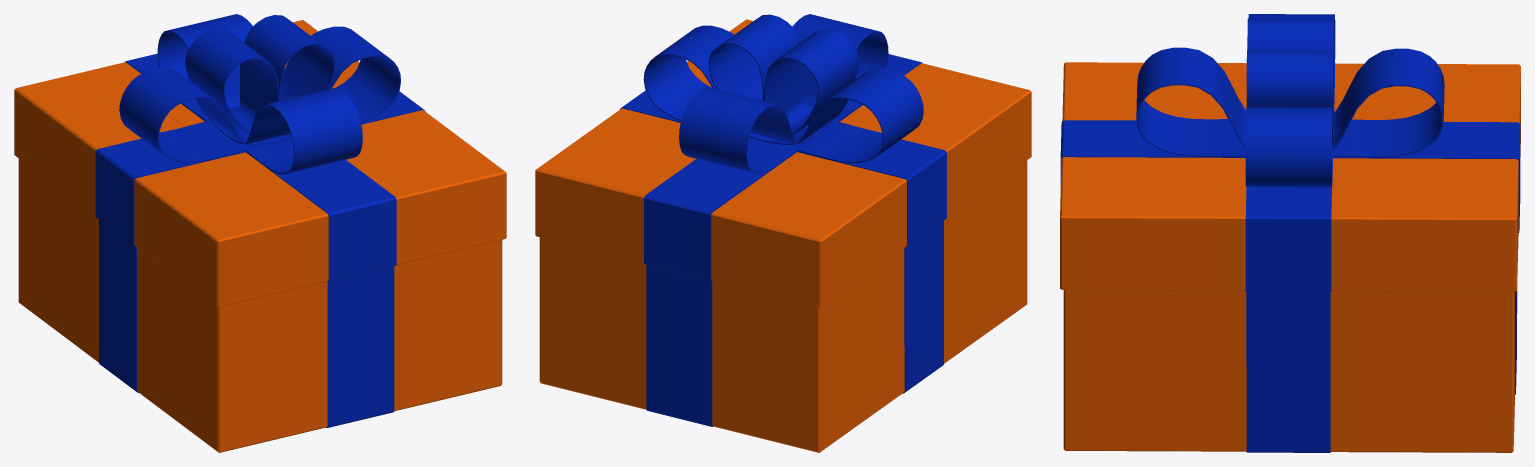
Rendered from Present_04.glb.
The picture shows the model from 3 angles, left to right: view 1: azimuth 30°, elevation 25°; view 2: azimuth 150°, elevation 25°; view 3: azimuth 270°, elevation 25°; orthographic projection. The views are drawn at different scales.
Parts seen in each view (by area): view 1: Present2; view 2: Present2; view 3: Present2.
Boxes of the visible parts, box(x1,y1,x2,y2) form: Present2: box(14, 14, 506, 452); Present2: box(535, 14, 1031, 452); Present2: box(1060, 14, 1520, 452).
Size of the model in its own units: 0.4095 by 0.4129 by 0.5083.
